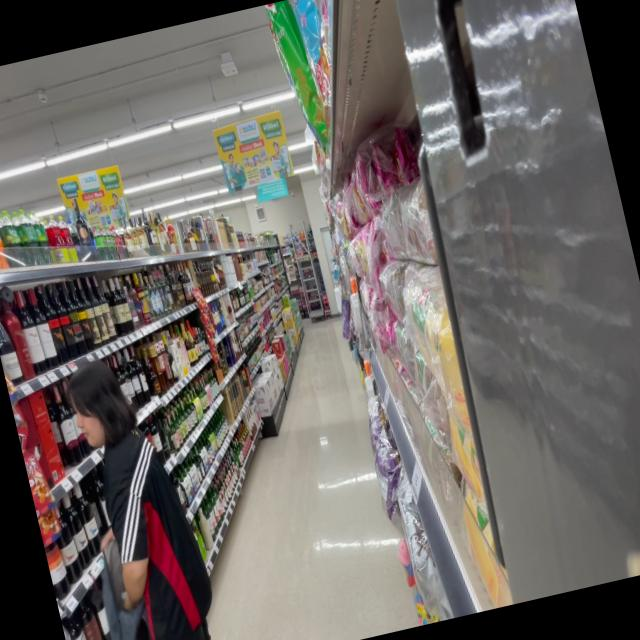shoplifting: (43, 342, 231, 640)
